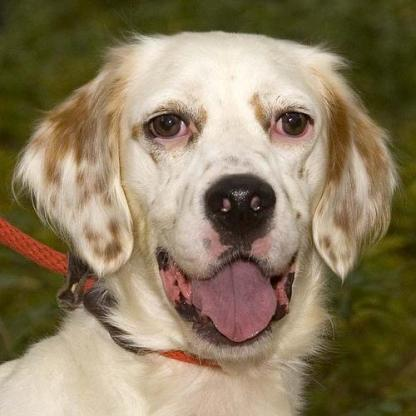English_setter: (0, 25, 402, 414)
